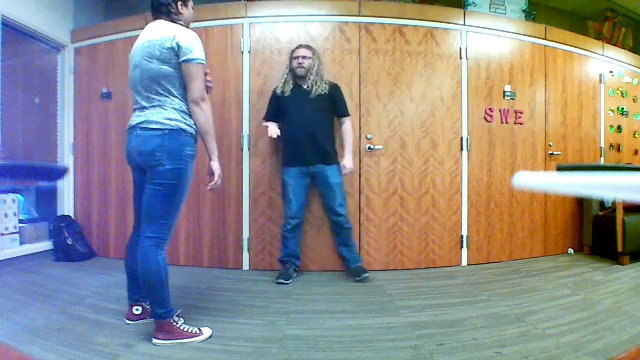land: (256, 116, 286, 146)
